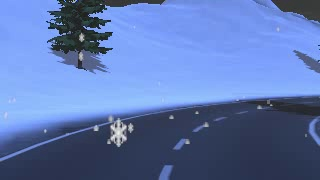Lane: (0, 95, 319, 179)
